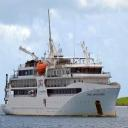cruises: (4, 34, 122, 119)
